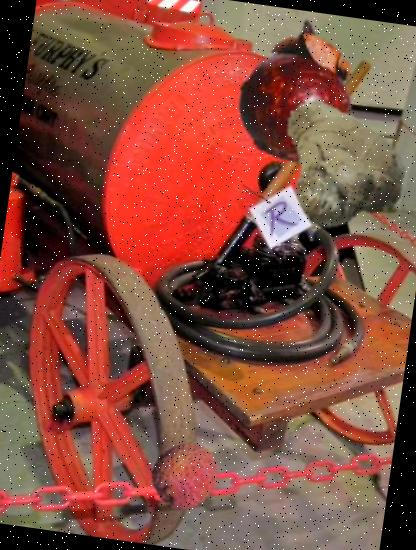Ginger: (255, 89, 413, 247)
Lychee: (146, 437, 226, 516)
Mangostan: (224, 18, 382, 176)
